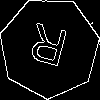R: (24, 23, 70, 76)
